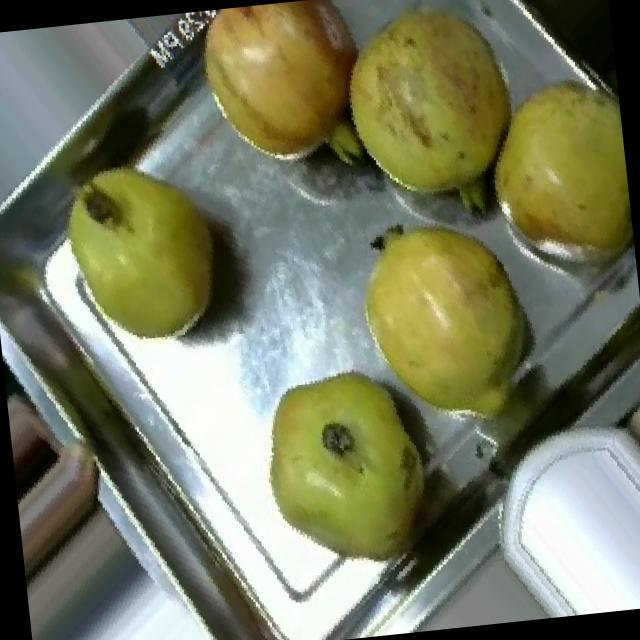fruit: (323, 180, 560, 460), (232, 340, 464, 606), (306, 0, 551, 246), (29, 132, 251, 374), (173, 0, 393, 198)
